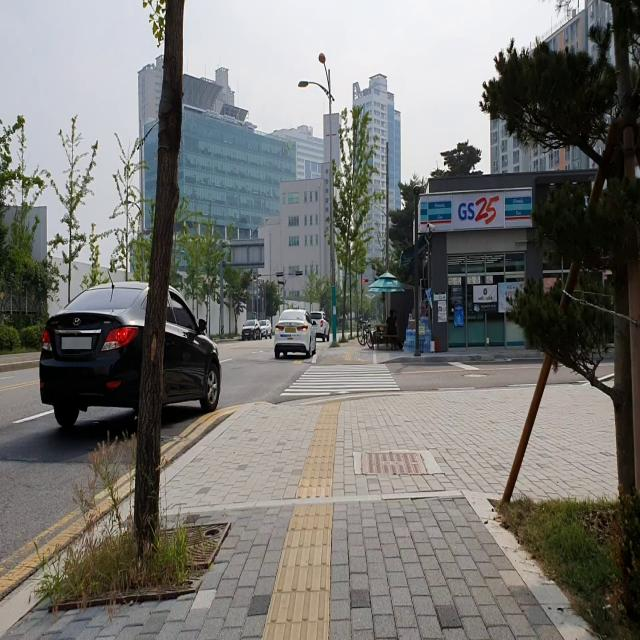횡단보도: (279, 362, 401, 397)
